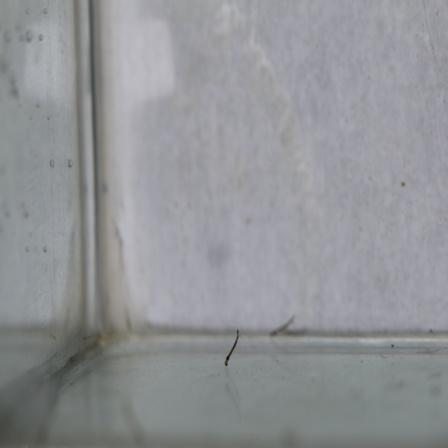Jentik-Nyamuk: (218, 327, 244, 369)
